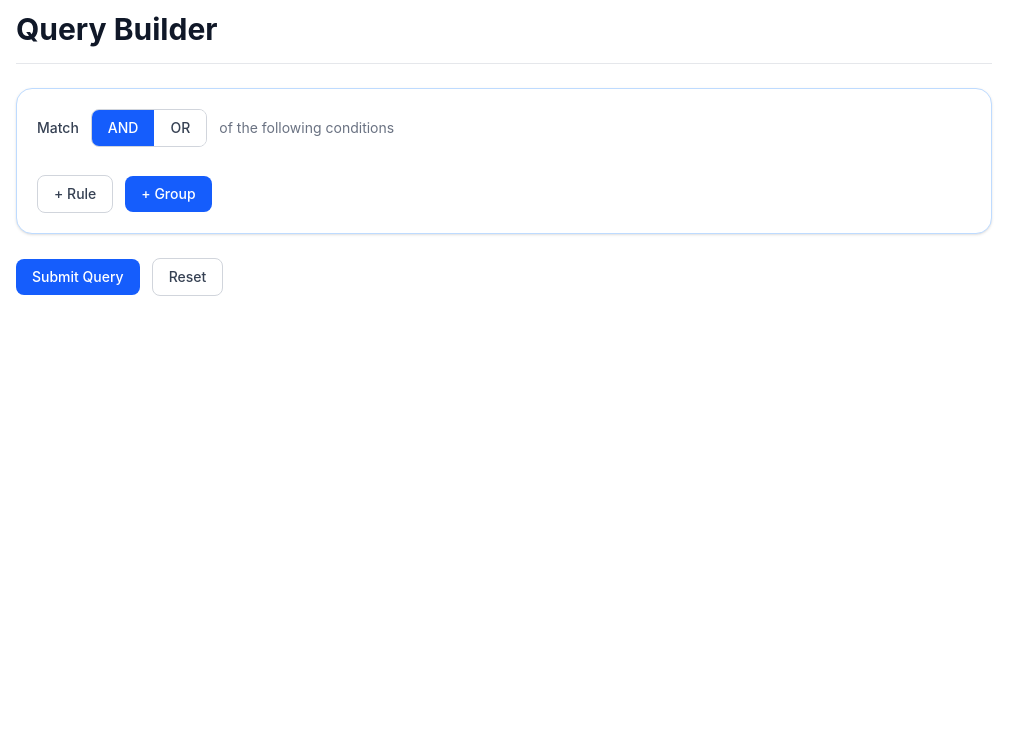
QueryBuilder › submits the form and displays generated JSON
Add a rule
Click the button with test id "add-rule-depth-0" at [75, 194], box [37, 175, 113, 213]
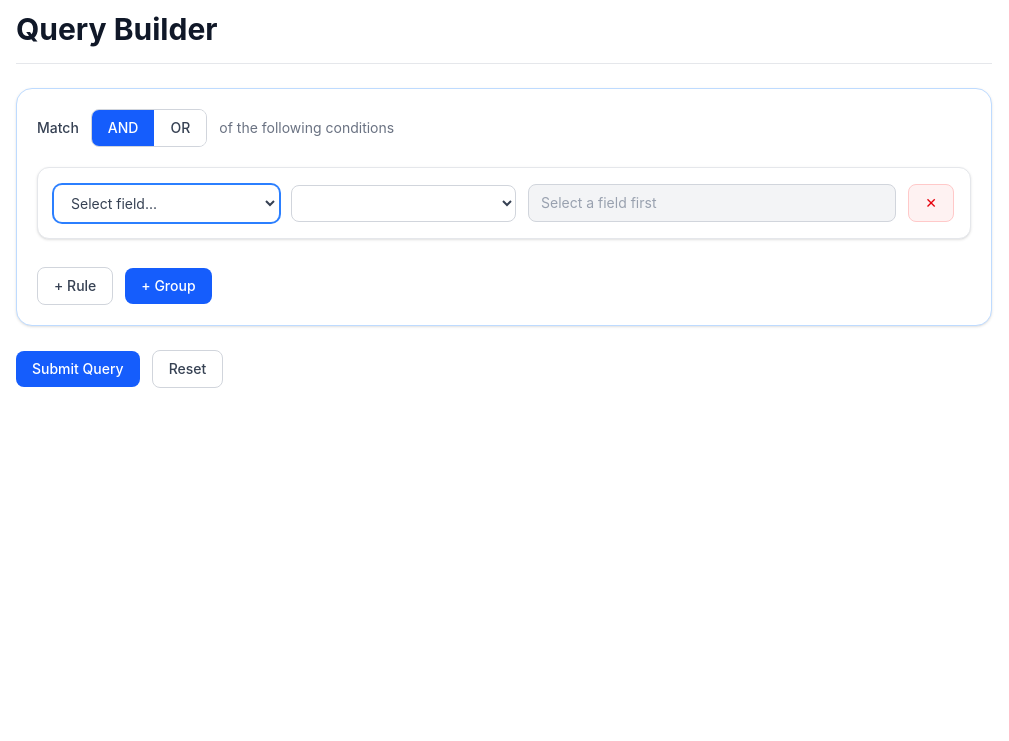
Fill out the rule
Select "name" in the dropdown with test id "field-select-depth-0-index-0" at [166, 203], box [54, 184, 279, 222]
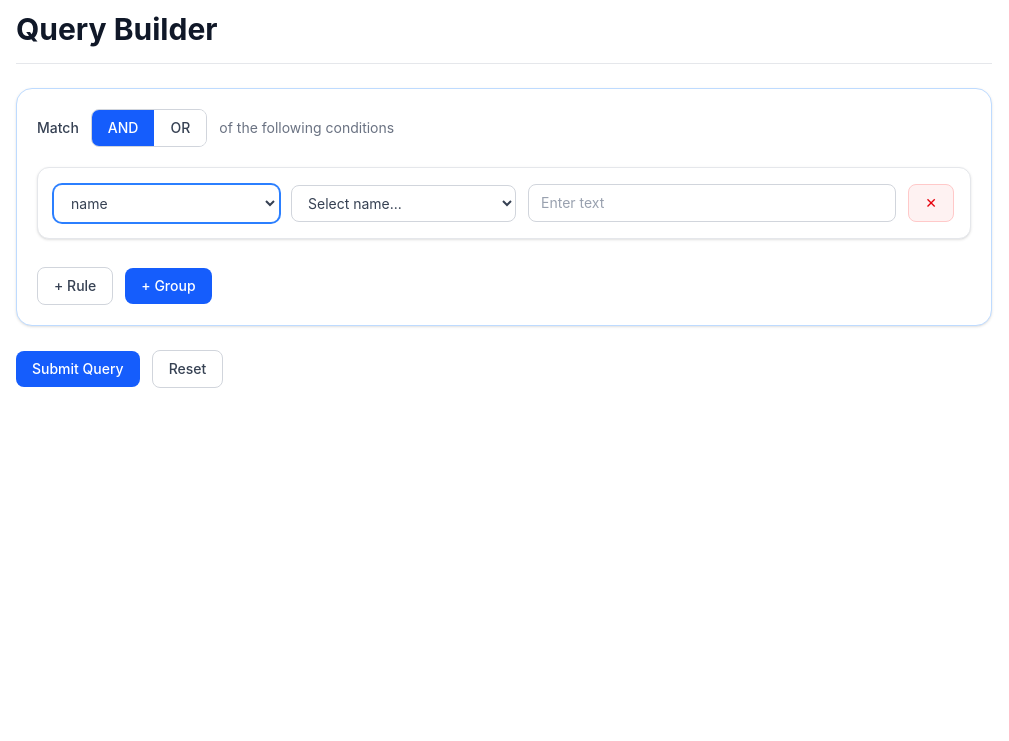
Select "EQUAL" in the dropdown with test id "operation-select-depth-0-index-0" at [404, 203], box [291, 184, 516, 222]
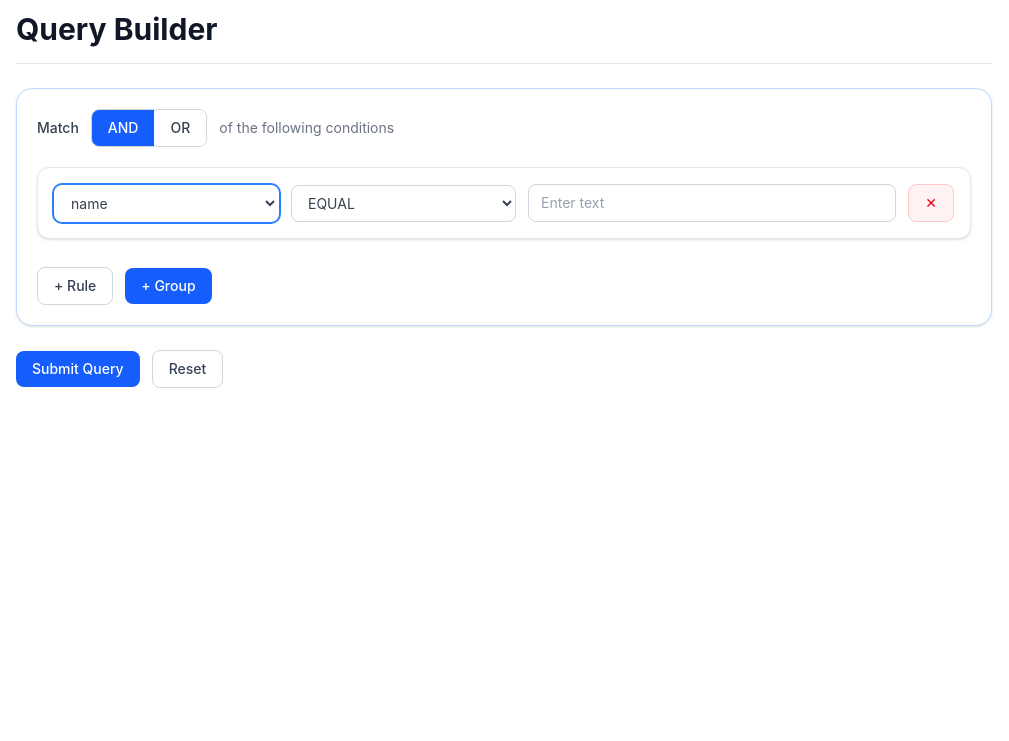
Type "john" into the field with test id "value-input-depth-0-index-0" at [712, 203], box [528, 184, 896, 222]
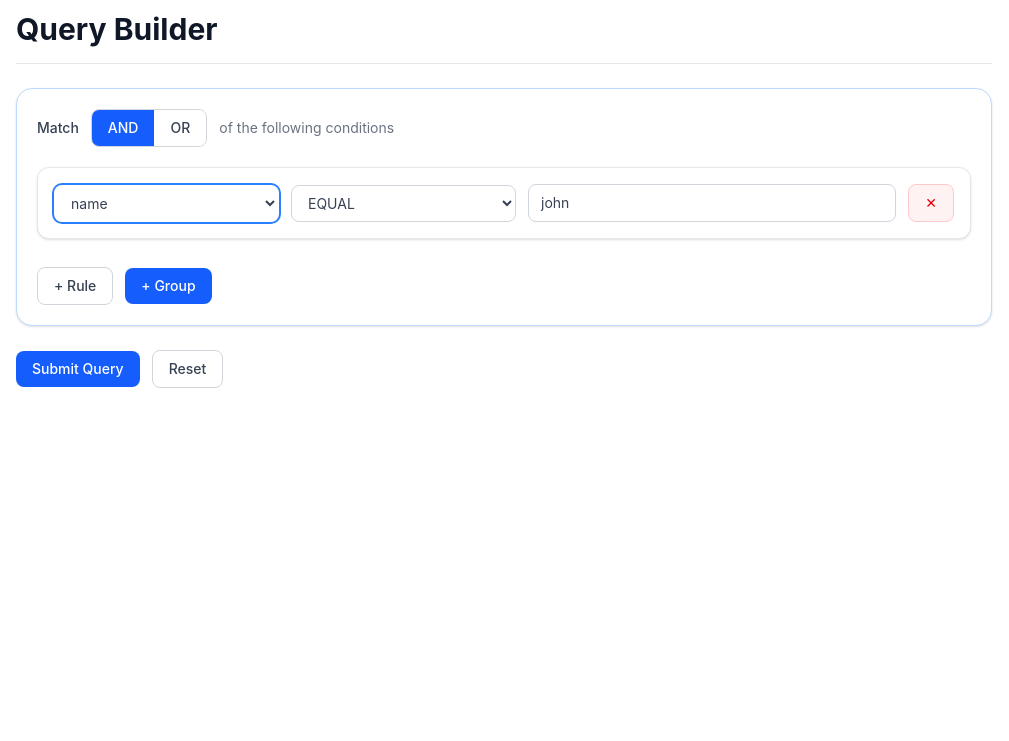
Click the button with test id "submit-button" at [78, 369], box [16, 351, 140, 387]
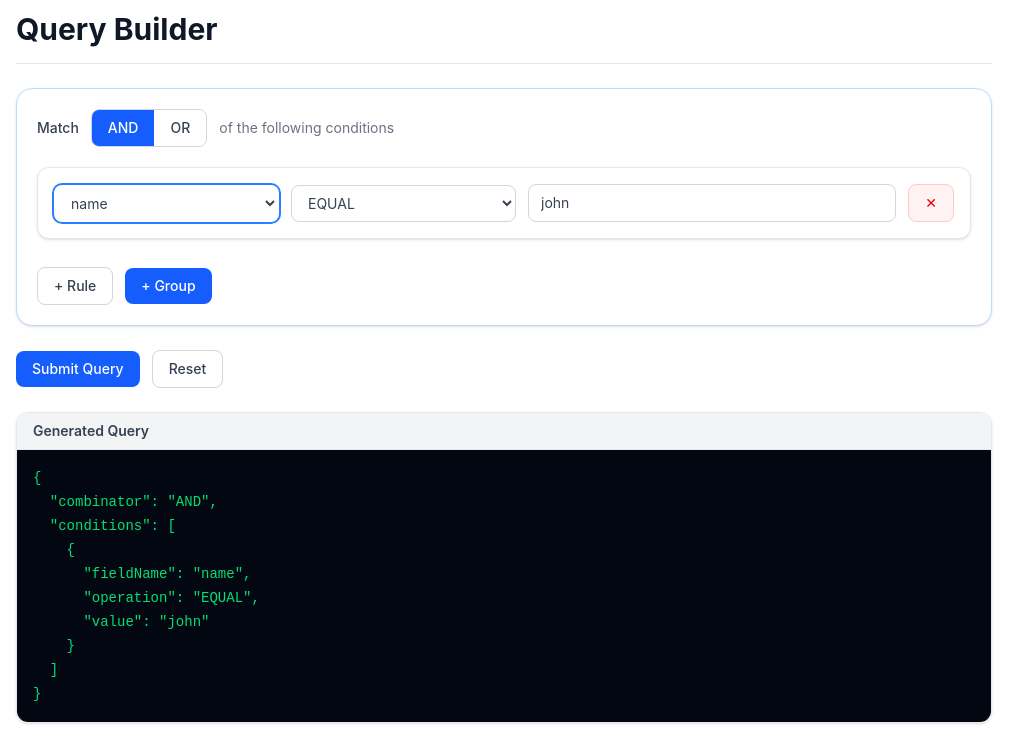
Now the element with test id "payload-display" is shown, box [16, 412, 992, 723]
Now the text "\"combinator\": \"AND\"" is shown, box [33, 470, 260, 702]
Now the text "\"fieldName\": \"name\"" is shown, box [33, 470, 260, 702]
